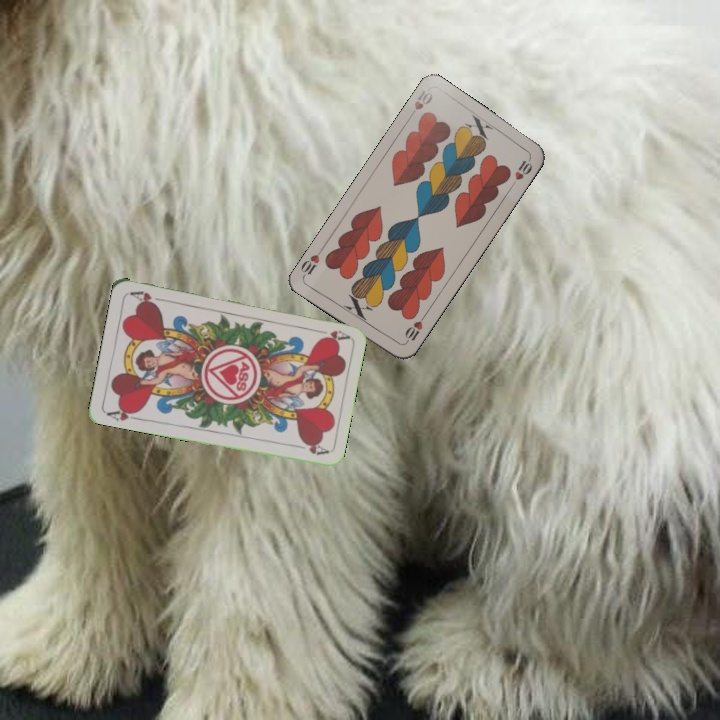H10: (404, 86, 435, 122), (400, 311, 428, 347)
HA: (102, 403, 143, 423), (311, 325, 351, 343)
